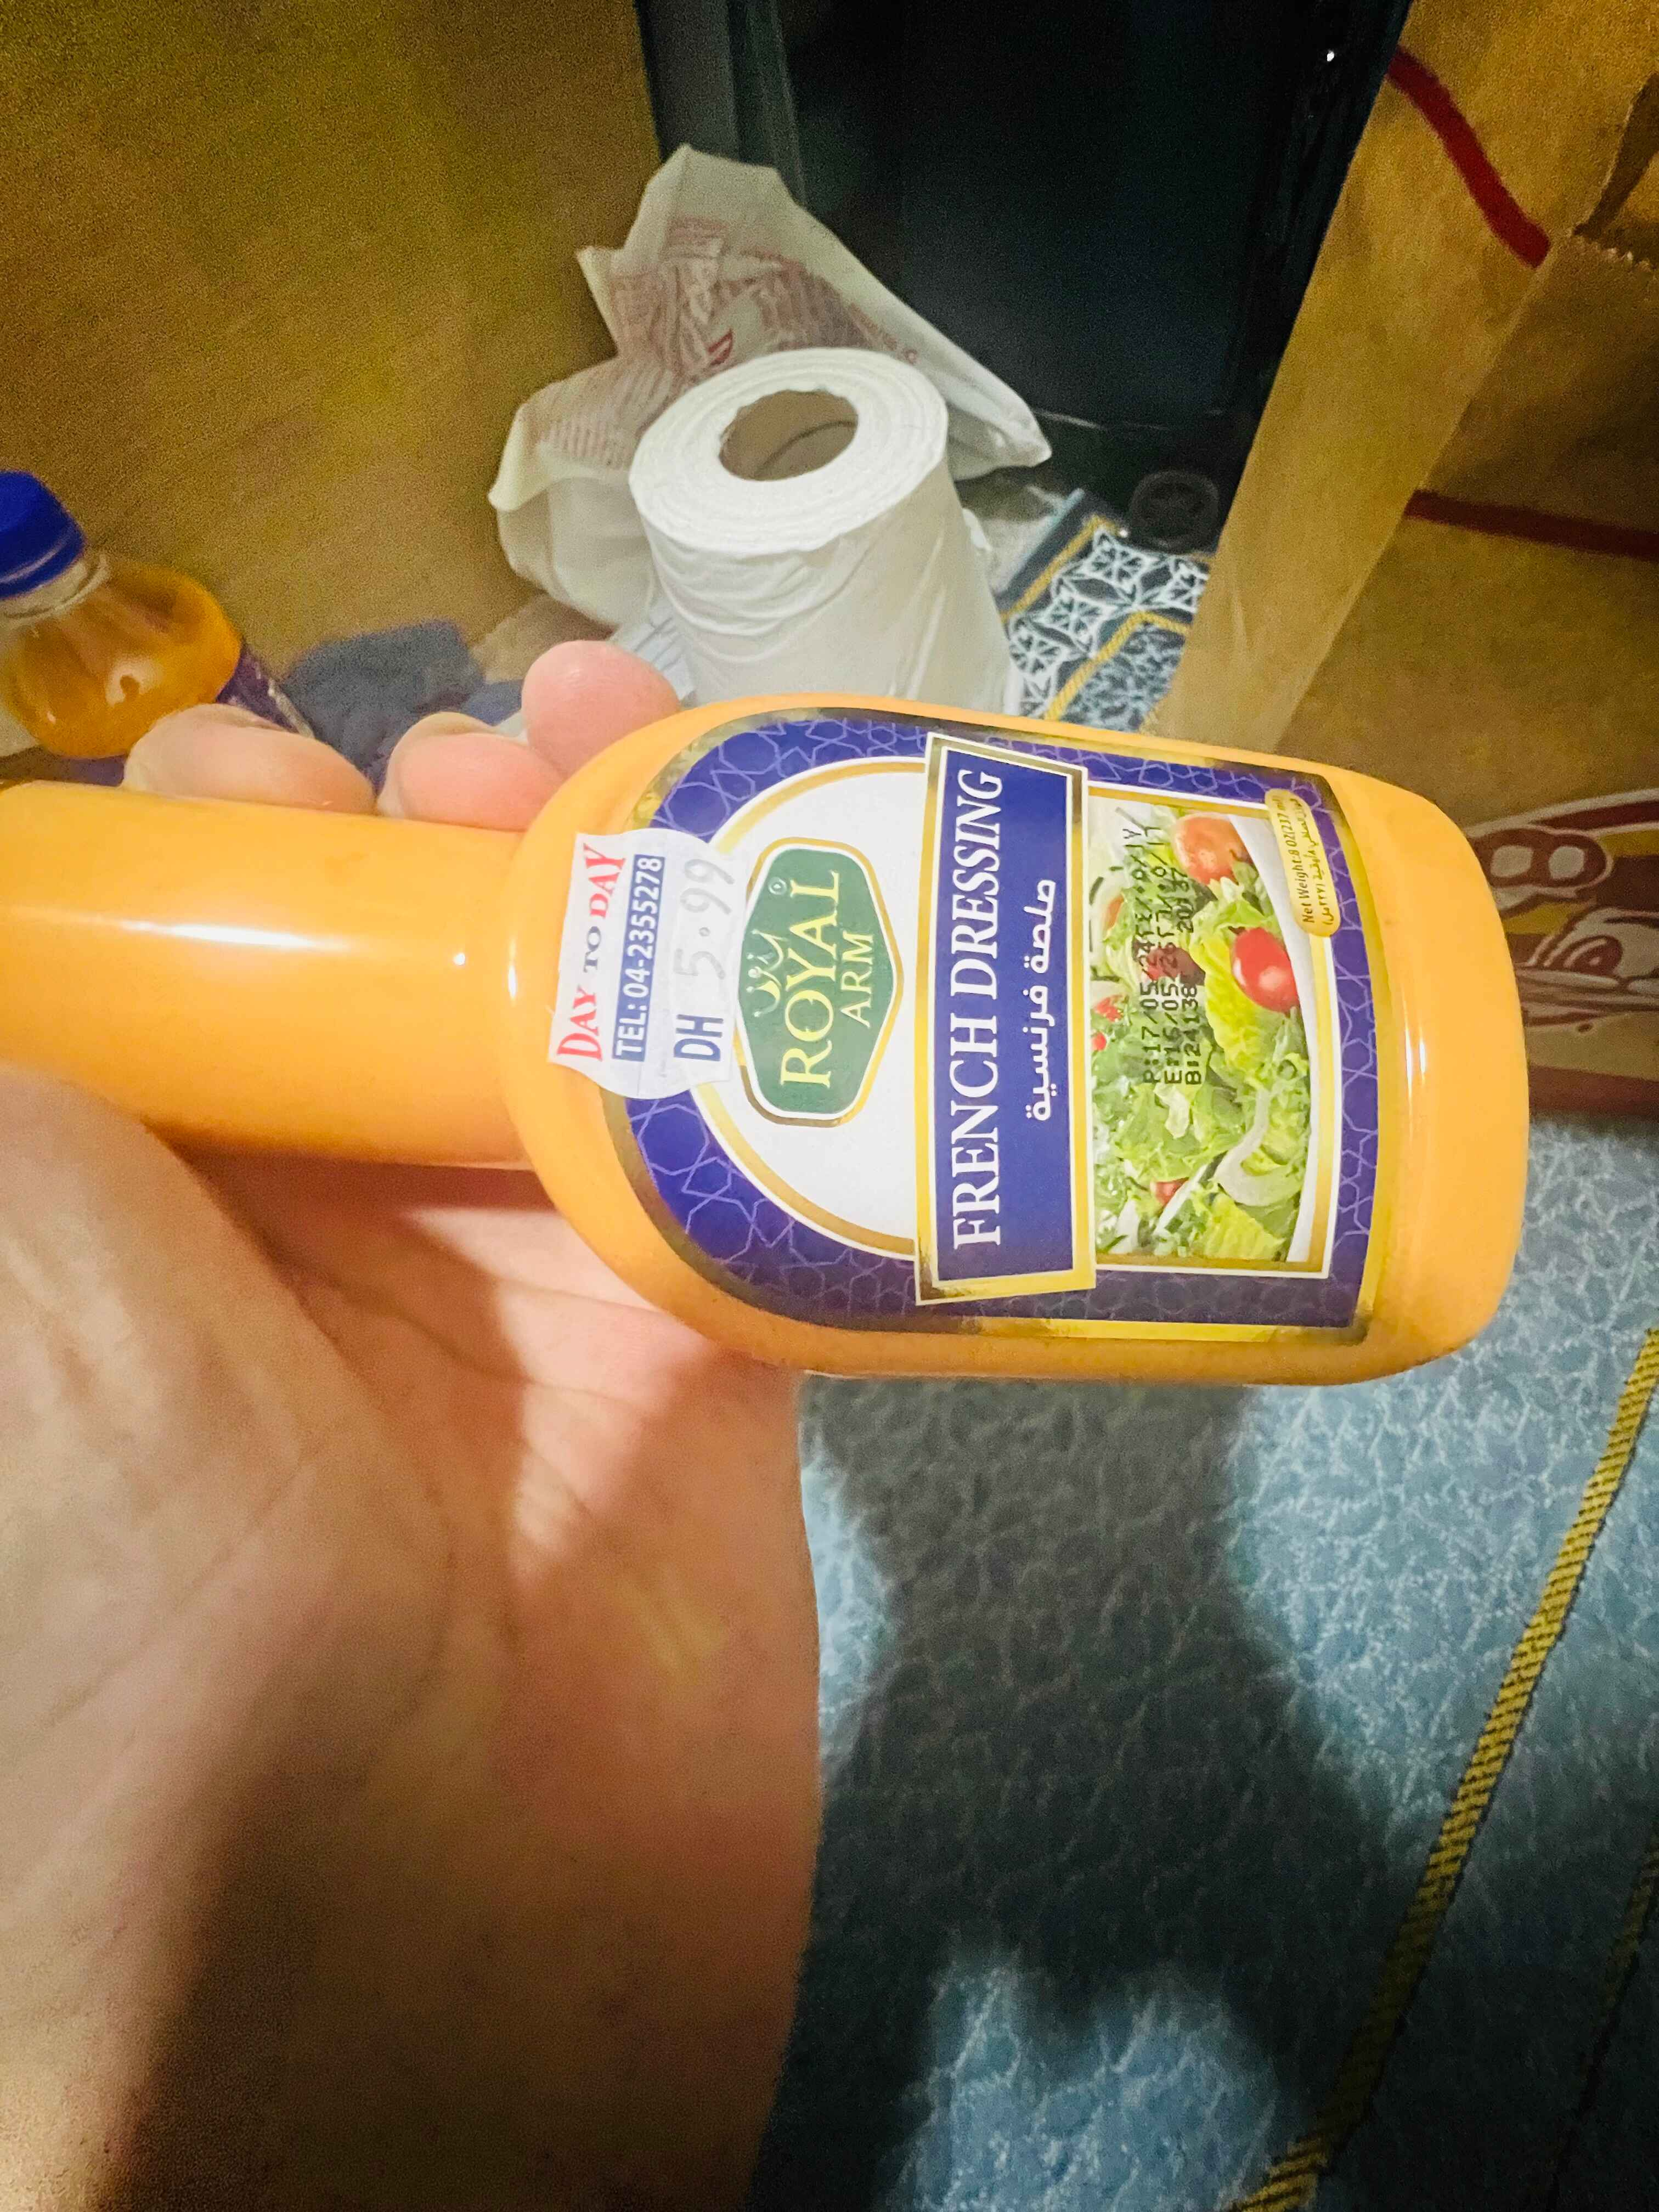PriceTagSmall: (551, 833, 749, 1106)
